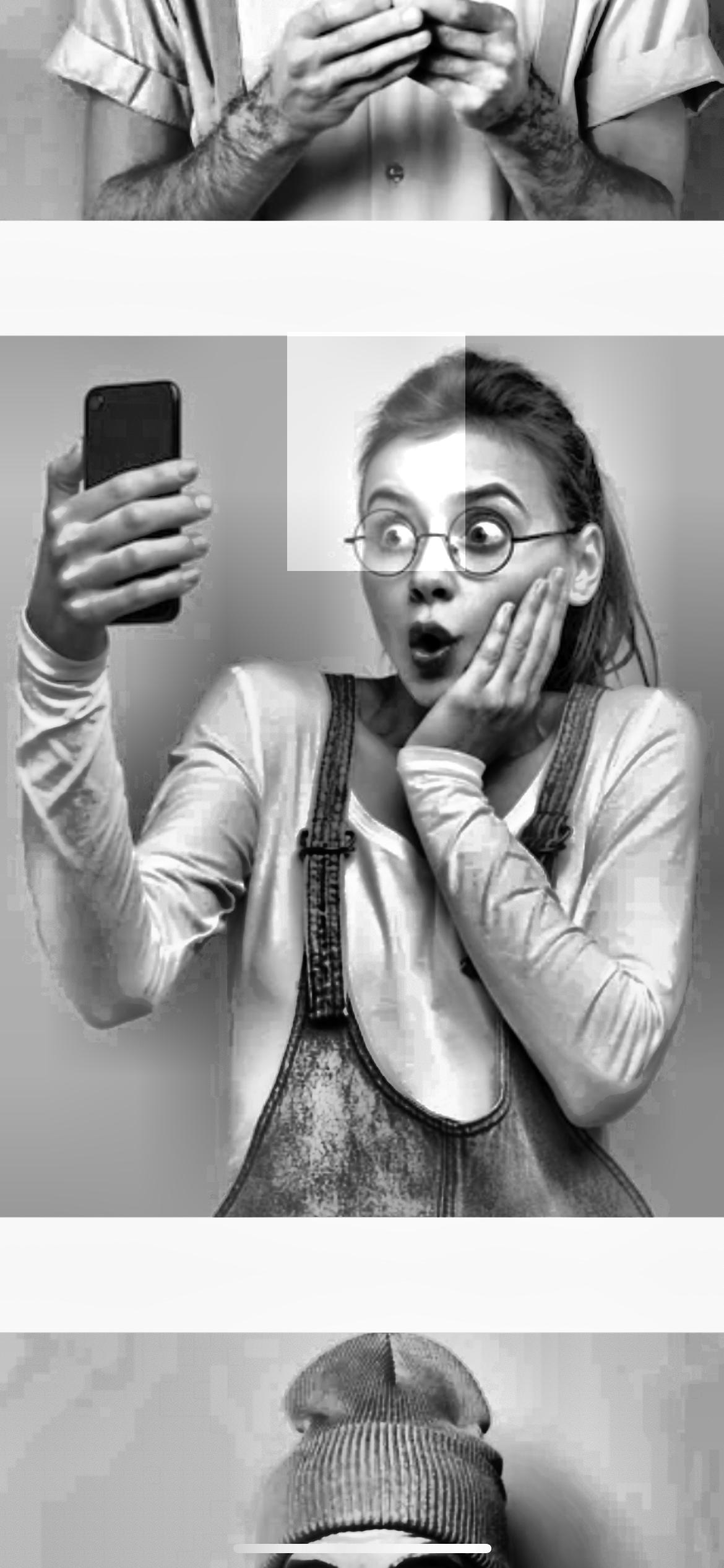surprised: (355, 411, 576, 706)
